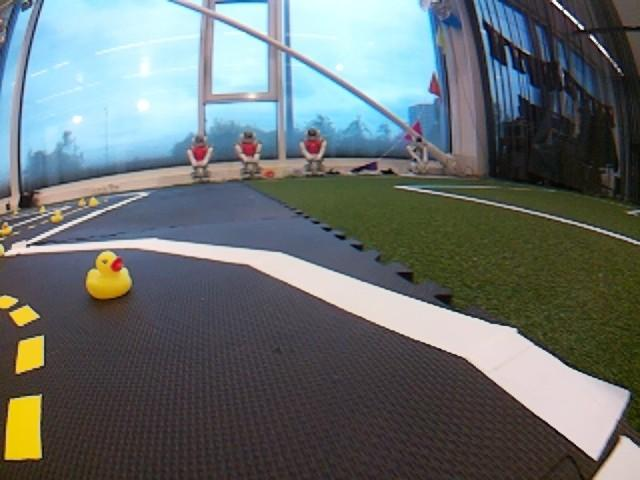Duckies: (85, 248, 133, 300), (50, 209, 64, 222), (0, 221, 12, 235), (89, 197, 100, 206), (78, 198, 87, 206), (39, 205, 46, 212)
